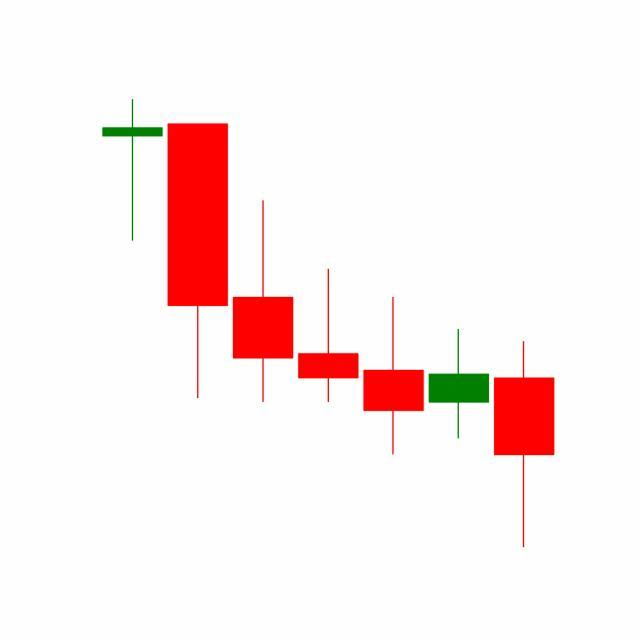Hikkake Pattern: (229, 196, 555, 548)
